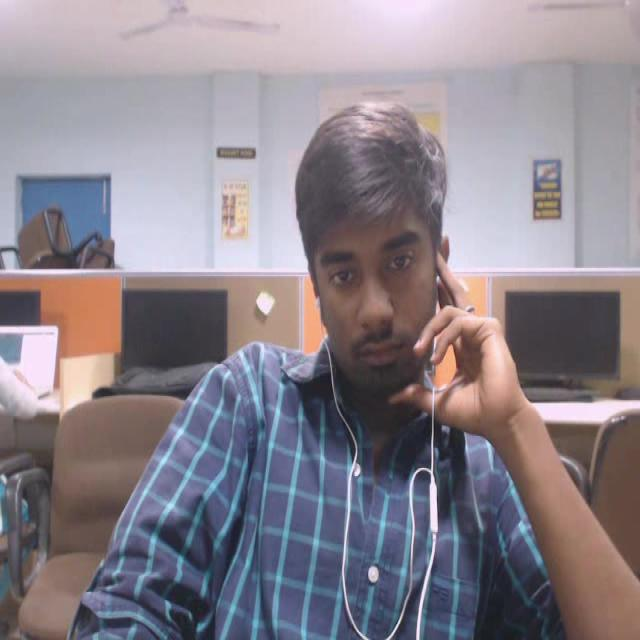Engaged: (289, 87, 458, 394)
